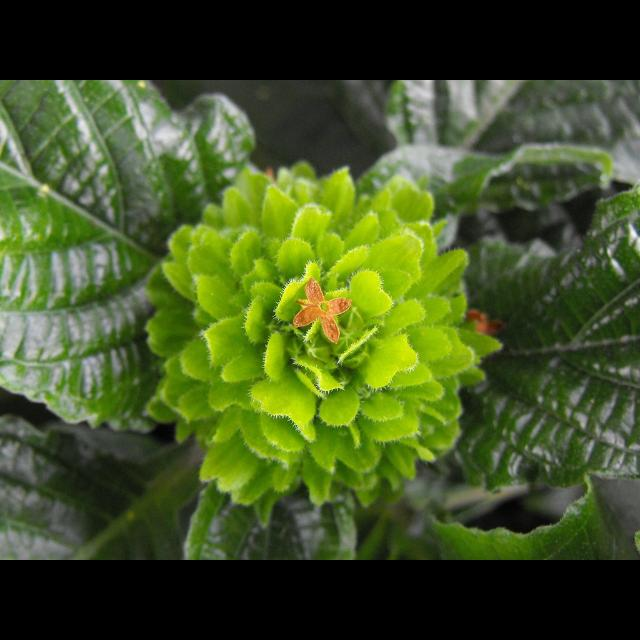Flower: (288, 278, 352, 342)
